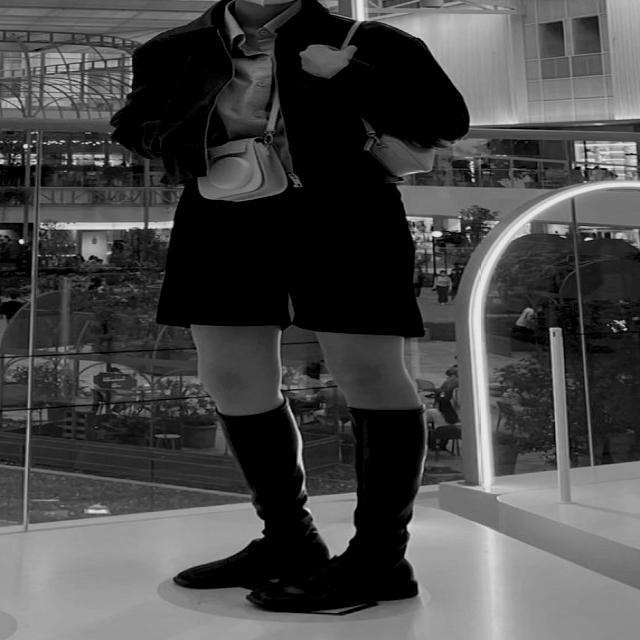jacket: (111, 0, 466, 194)
shirt: (212, 0, 306, 178)
shortpants: (156, 182, 426, 342)
